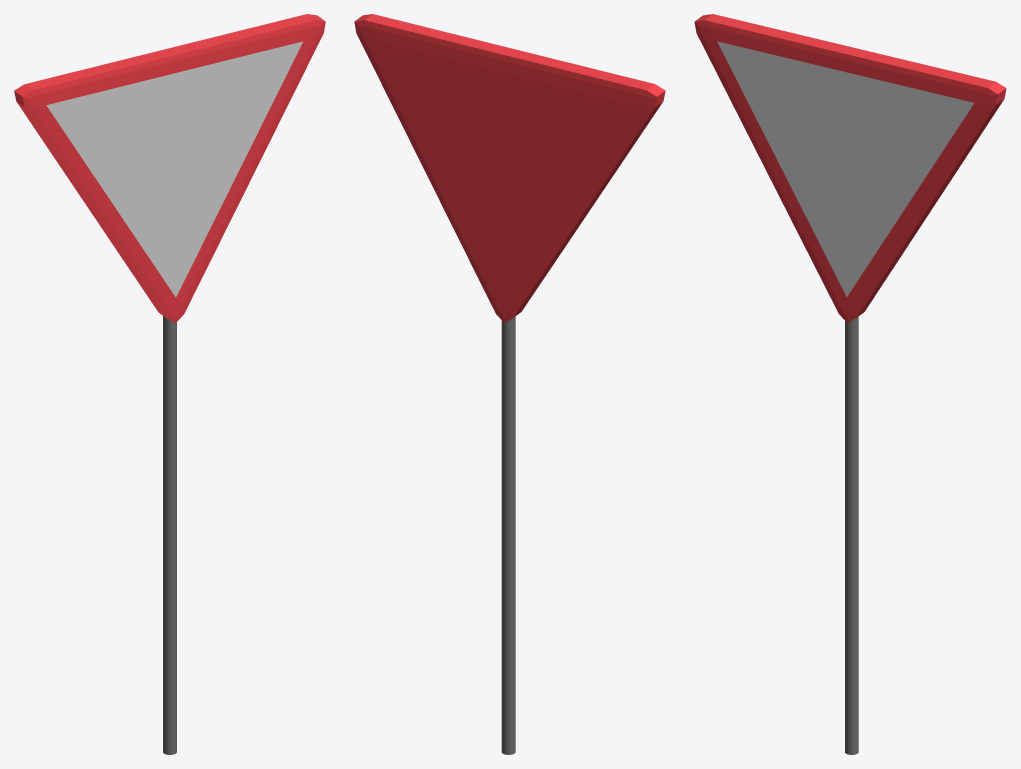
File: signs triangle red white down.fbx
3 renders of one model, left to right at view 1: azimuth 30°, elevation 25°; view 2: azimuth 150°, elevation 25°; view 3: azimuth 330°, elevation 25°, orthographic.
Parts seen in each view (by area): view 1: Cube.004; view 2: Cube.004; view 3: Cube.004.
Boxes of the visible parts, x1,y1,x2,y2 form: Cube.004: (14,14,325,754); Cube.004: (354,14,665,754); Cube.004: (694,14,1006,754).
Bounding box in the file's own units: 205 × 11.26 × 453.
